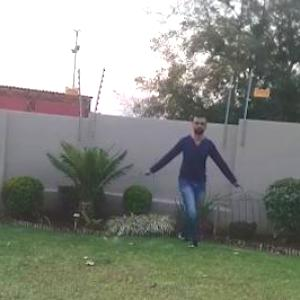land: (140, 113, 244, 250)
